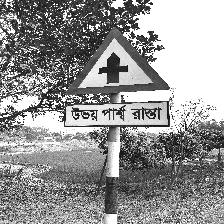Crossroad: (63, 27, 172, 129)
